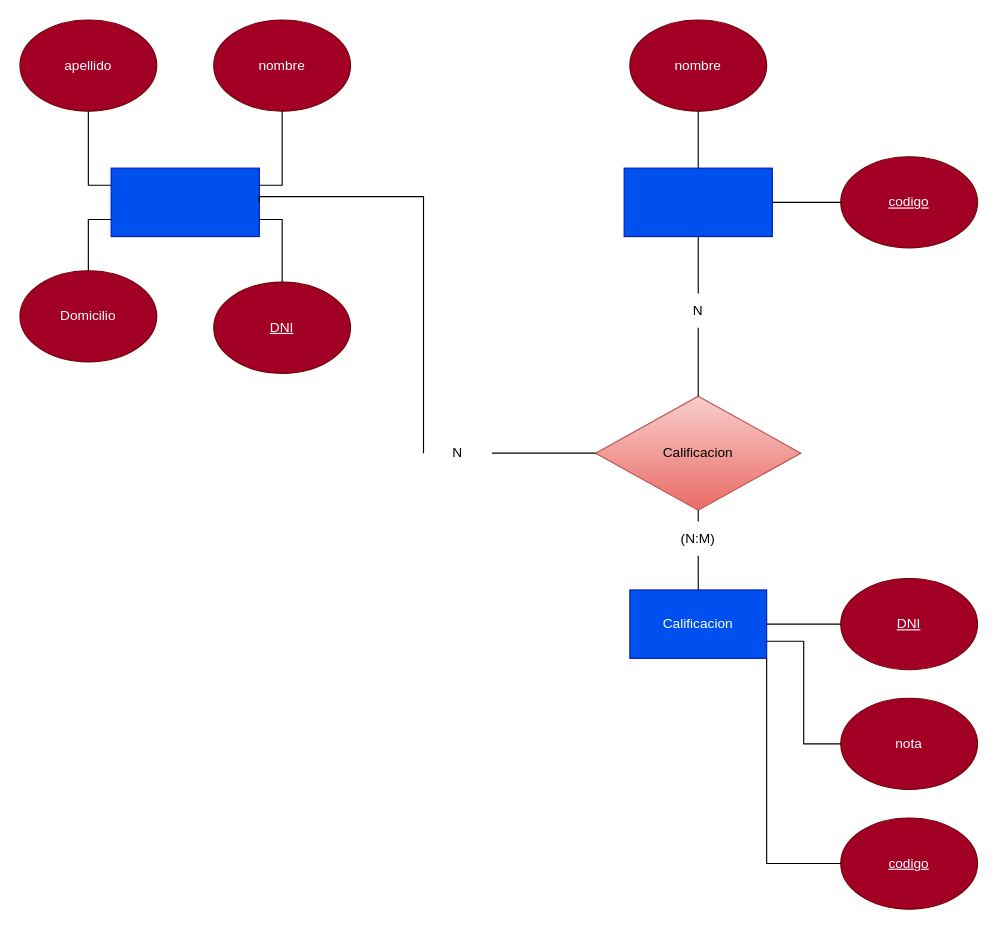
The diagram is 998 pixels wide and 929 high, and some of its shapes have lost their labels. The centre of each missing label's shape, as x and y in pixels:
"Alumnos" goes at (x=184, y=202).
"Asignatura" goes at (x=697, y=202).
